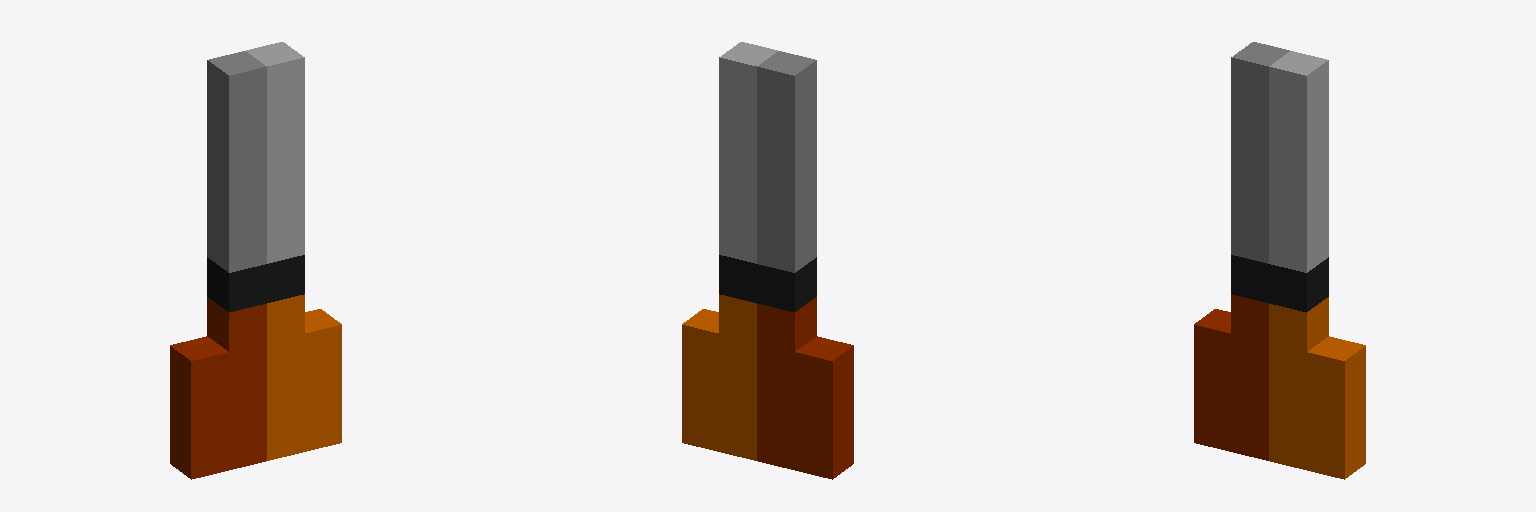
3 views of the same model, side by side, from view 1: azimuth 30°, elevation 25°; view 2: azimuth 150°, elevation 25°; view 3: azimuth 330°, elevation 25° (orthographic).
Parts seen in each view (by area): view 1: object 1; view 2: object 1; view 3: object 1.
Boxes of the visible parts, x1,y1,x2,y2 form: object 1: [170, 42, 341, 479]; object 1: [682, 42, 853, 479]; object 1: [1194, 42, 1365, 479].
Size of the model in its own units: 0.4 by 1 by 0.1.
Materials: 1 (1 with a texture image).